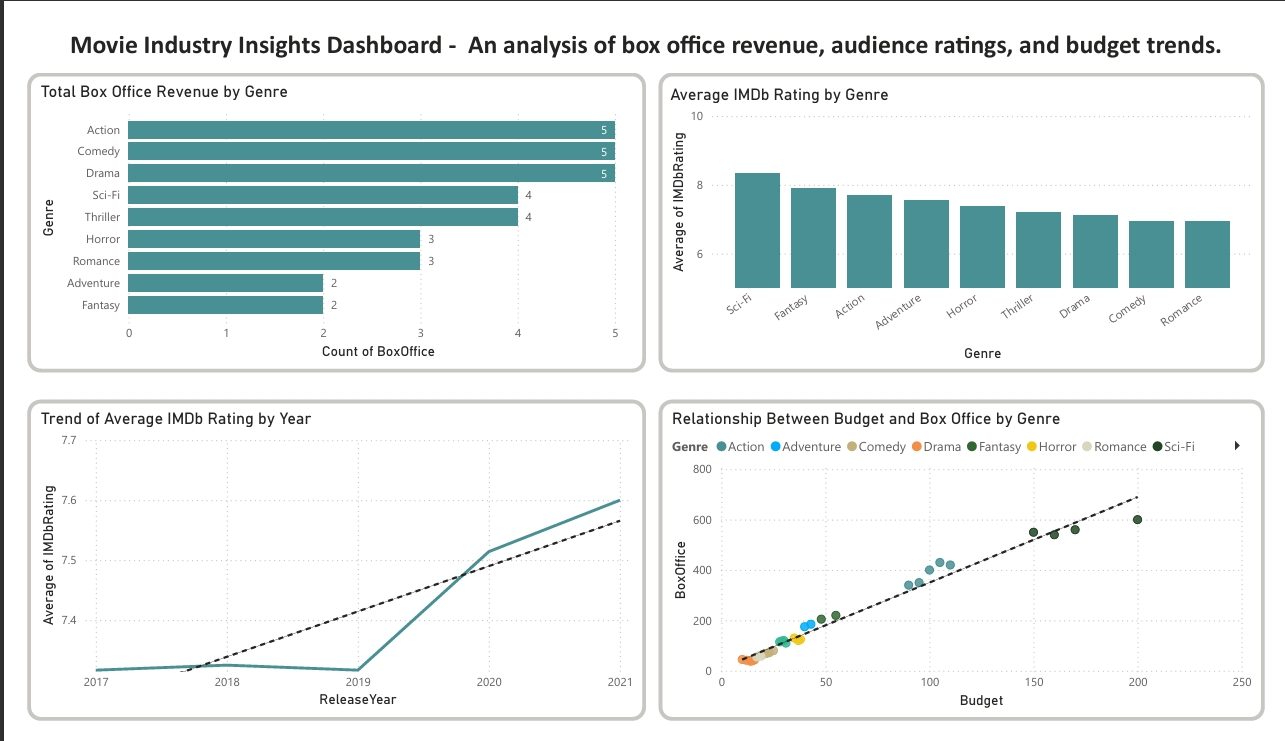

What the dashboard file says about the page in this screenshot:
{"tool":"powerbi","page":{"name":"Page 1","canvas":[1280,720],"ordinal":0},"visuals":[{"type":"clusteredBarChart","title":"Total Box Office Revenue by Genre","fields":{"Category":["movies_messy (2).Genre"],"Y":["CountNonNull(movies_messy (2).BoxOffice)"]},"box":[0,50,640,310],"z":0},{"type":"clusteredColumnChart","title":" Average IMDb Rating by Genre","fields":{"Category":["movies_messy (2).Genre"],"Y":["Avg(movies_messy (2).IMDbRating)"]},"box":[653.3,50,626.7,310],"z":1000},{"type":"scatterChart","title":"Relationship Between Budget and Box Office by Genre","fields":{"X":["movies_messy (2).Budget"],"Y":["movies_messy (2).BoxOffice"],"Series":["movies_messy (2).Genre"]},"box":[653.3,388.3,626.7,331.7],"z":2000},{"type":"lineChart","title":"Trend of Average IMDb Rating by Year","fields":{"Category":["movies_messy (2).ReleaseYear"],"Y":["Avg(movies_messy (2).IMDbRating)"]},"box":[0,388.3,640,331.7],"z":3000},{"type":"textbox","box":[0,0,1280,50],"z":4000}]}

Visuals, with their boxes in screenshot pixels (x1, y1, x2, y2), scaled from the page's 1280x720 canvas onto the 1285x741 screenshot:
"Total Box Office Revenue by Genre" clusteredBarChart: (x1=0, y1=51, x2=642, y2=370)
" Average IMDb Rating by Genre" clusteredColumnChart: (x1=656, y1=51, x2=1284, y2=370)
"Relationship Between Budget and Box Office by Genre" scatterChart: (x1=656, y1=400, x2=1284, y2=740)
"Trend of Average IMDb Rating by Year" lineChart: (x1=0, y1=400, x2=642, y2=740)
textbox: (x1=0, y1=0, x2=1284, y2=51)
